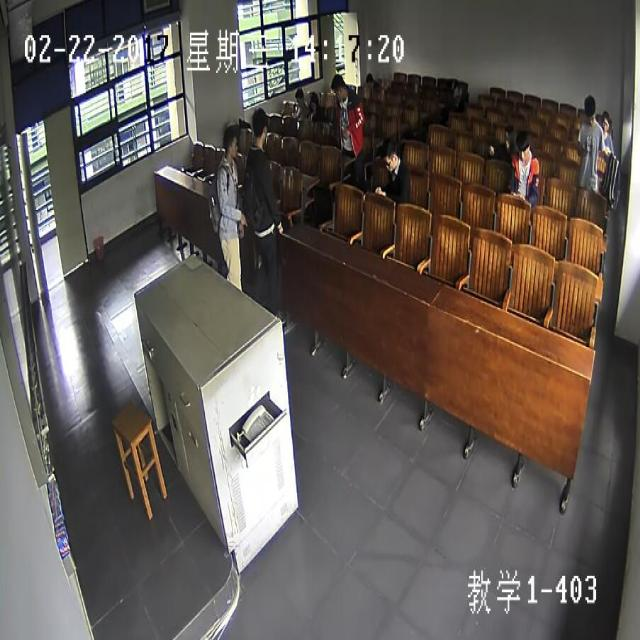person: (252, 108, 266, 143), (516, 130, 530, 162), (382, 140, 396, 172), (224, 128, 237, 160), (582, 92, 594, 124), (503, 122, 515, 151), (331, 73, 343, 101), (601, 109, 609, 132), (310, 90, 317, 110), (365, 72, 373, 89), (294, 88, 302, 104)
